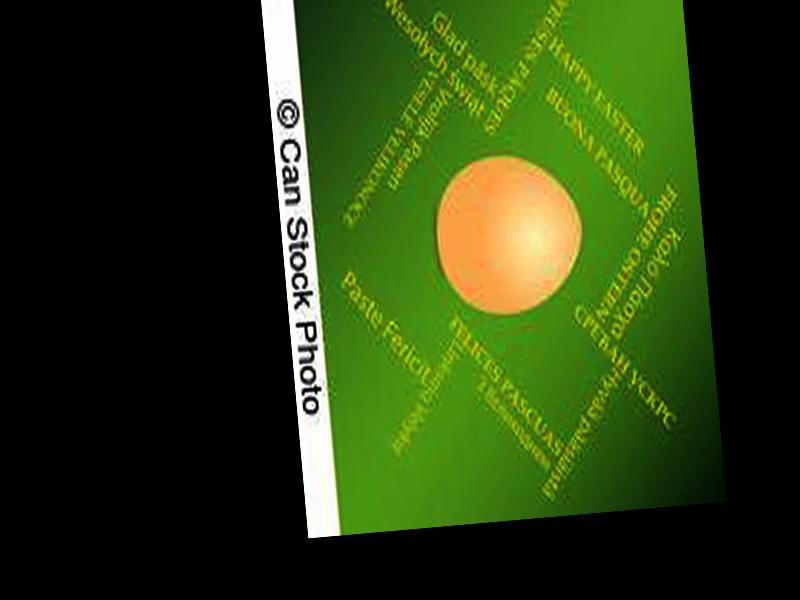Eggs: (430, 149, 587, 317)
